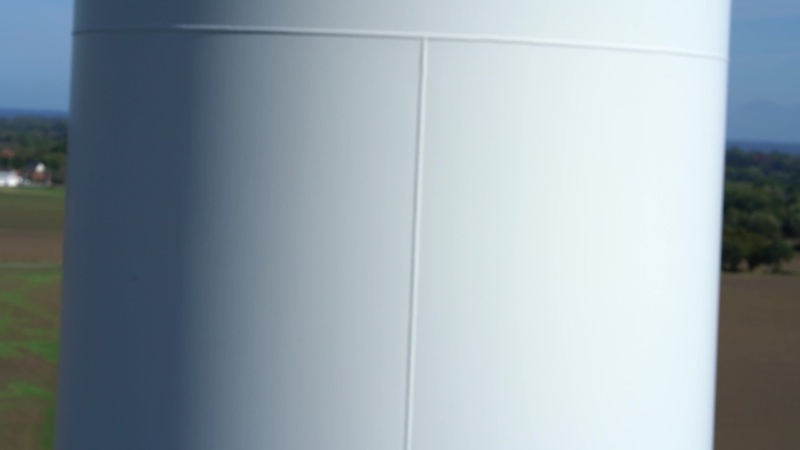weldseam: (73, 19, 732, 66), (399, 28, 434, 450)
